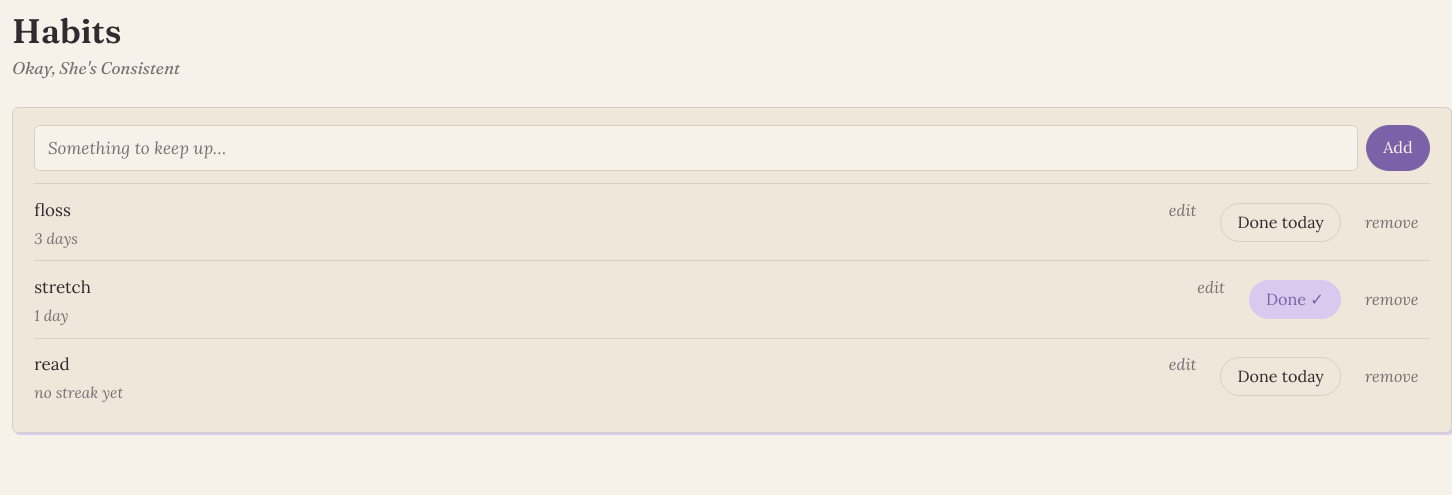
Test case: a failed completion shows the error
The image size is (1452, 495).
Expected: the text "floss" is shown, [34,199,71,221]
What coordinates should you click on to do the following:
click the button "Done today" in the row of "floss"
I would click on:
 (1281, 222)
Its box is [1220,203,1341,242].
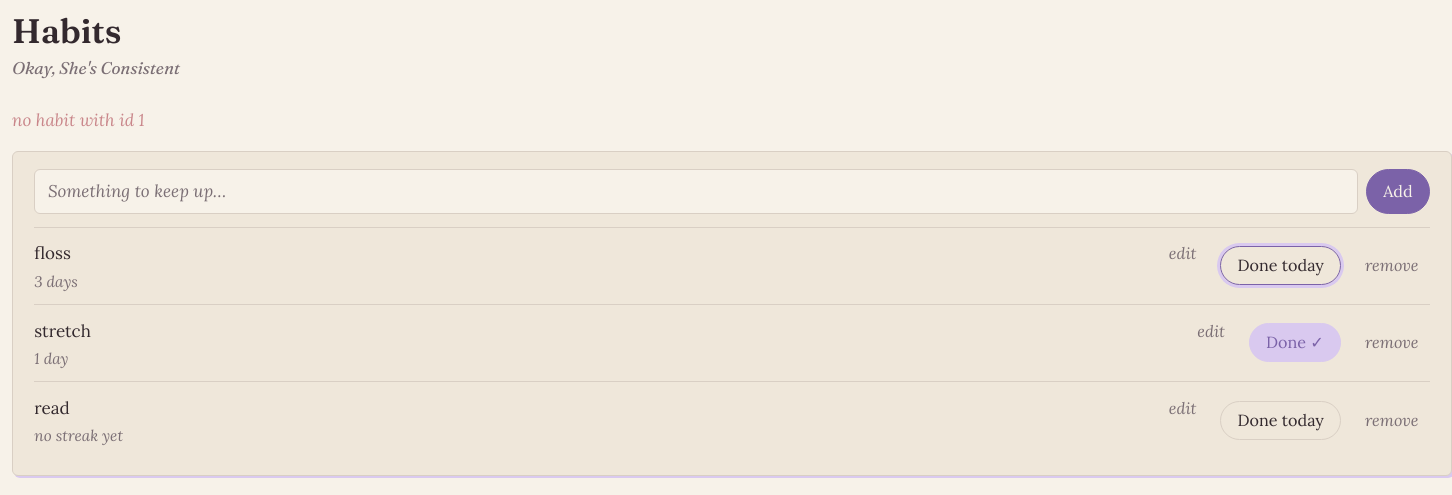
Expected: the message reads "no habit with id 1", [12,109,145,131]
